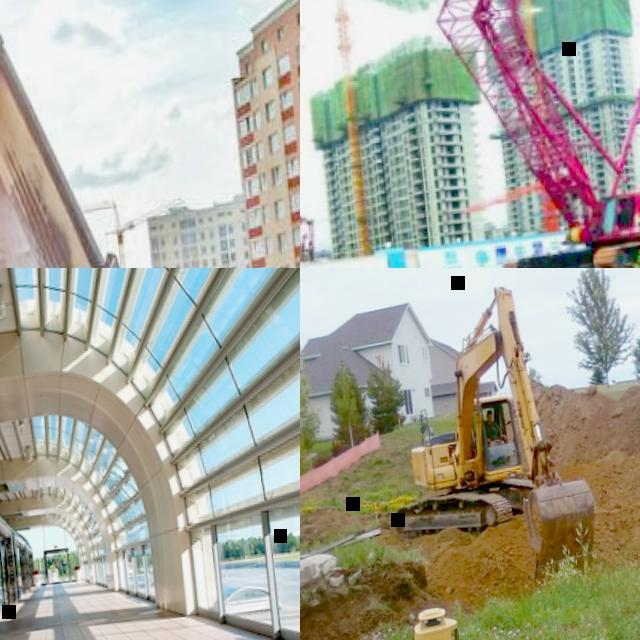helmet: (486, 409, 494, 416)
